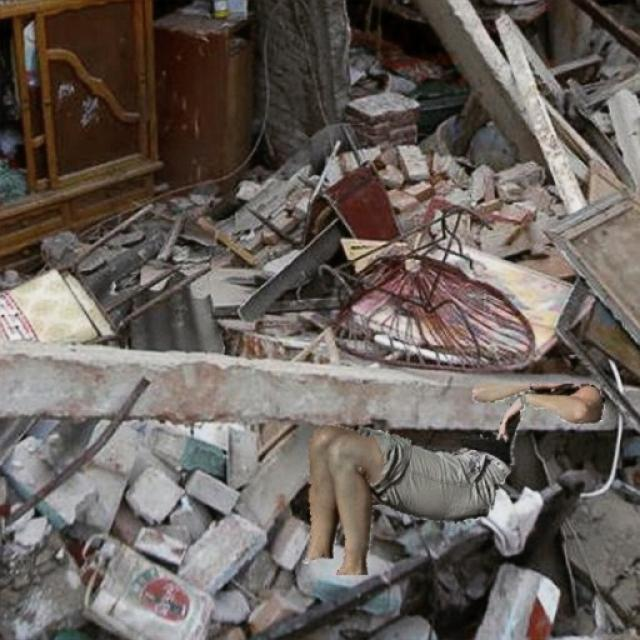Person in Rubble: (302, 384, 604, 574)
